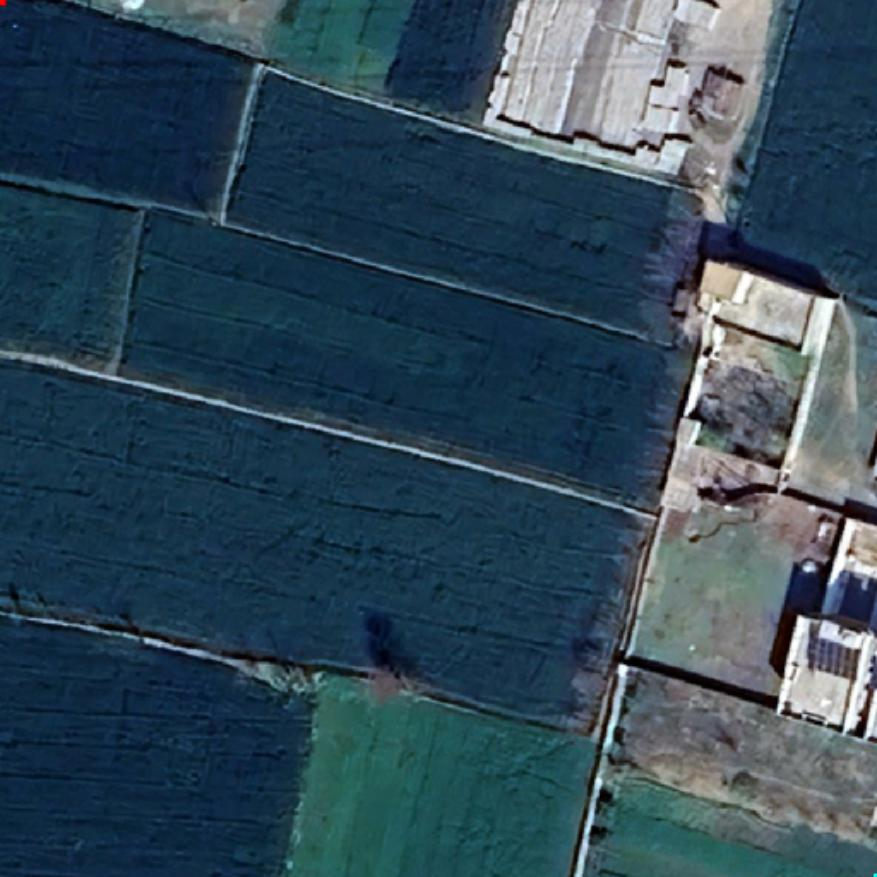Solarpanel: (803, 632, 863, 684)
